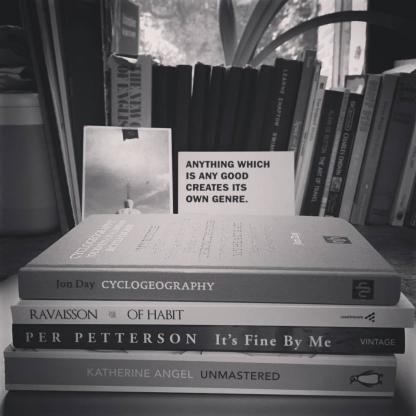book: (110, 52, 416, 235), (0, 295, 408, 415), (17, 214, 398, 301), (80, 123, 172, 216), (172, 152, 294, 221)
